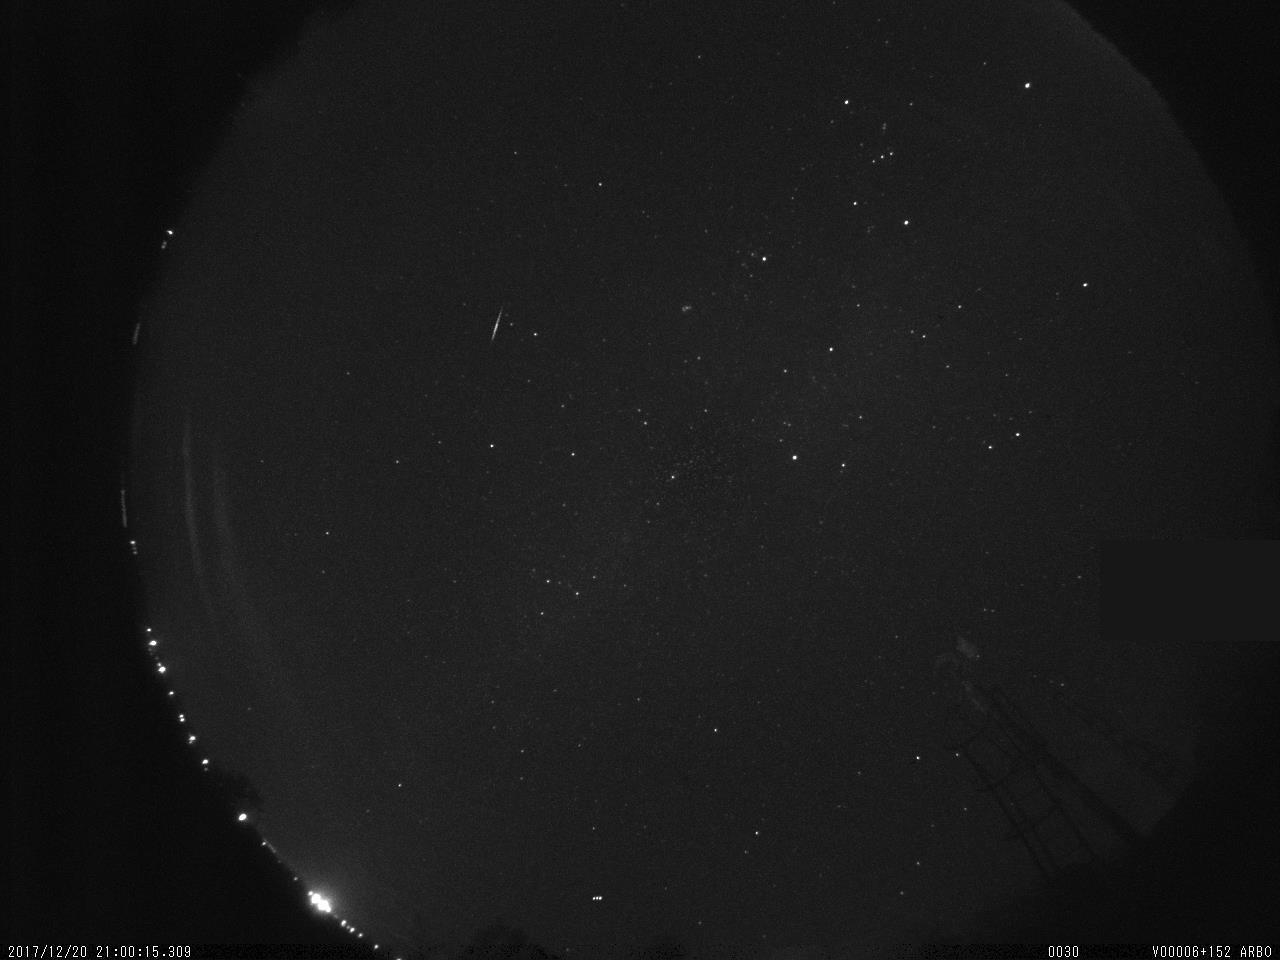meteor: (471, 292, 530, 349)
